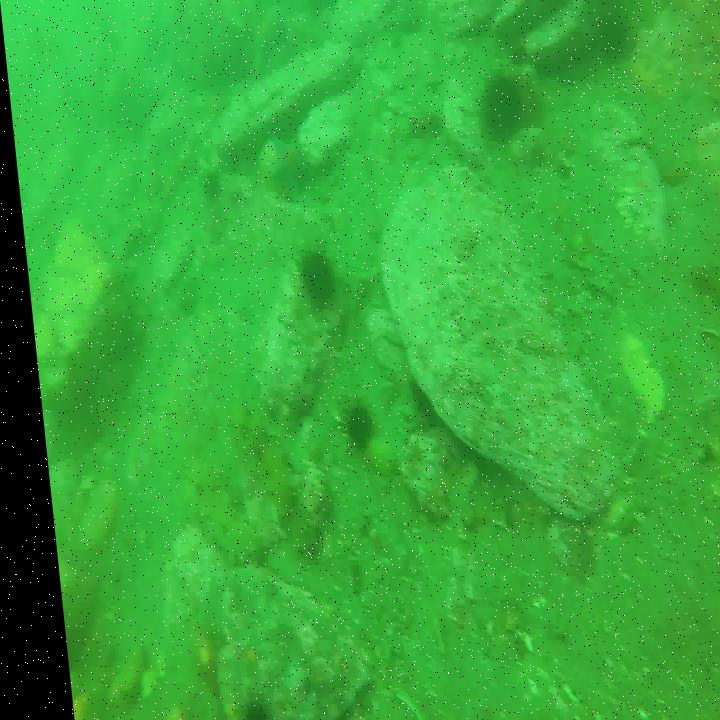echinus: (476, 74, 527, 141), (295, 247, 334, 309), (334, 398, 368, 451)
holothurian: (176, 462, 249, 568), (223, 405, 288, 513)
